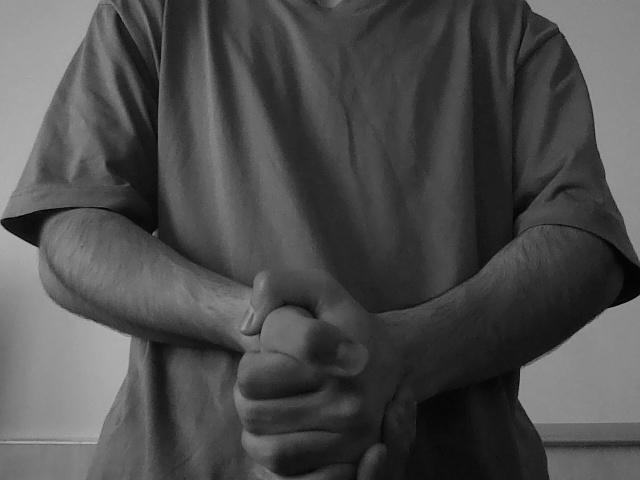friend: (230, 263, 388, 475)
